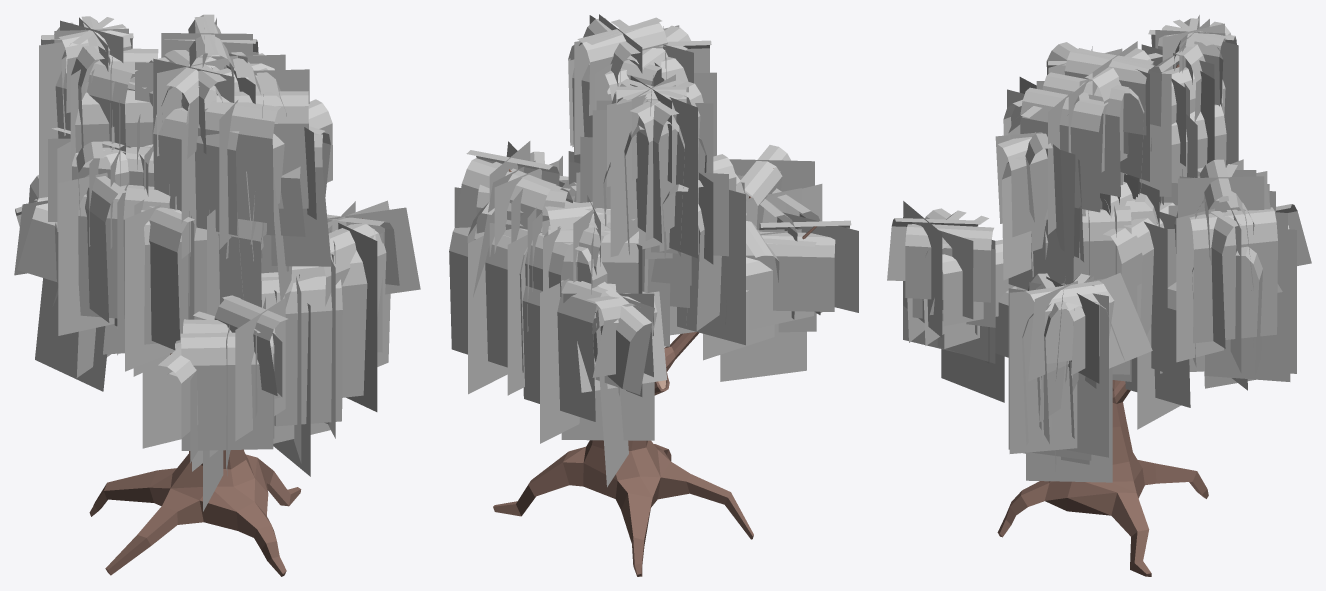
File: Tree_Willow.fbx
3 views of the same model, side by side, from view 1: azimuth 30°, elevation 25°; view 2: azimuth 150°, elevation 25°; view 3: azimuth 270°, elevation 25° (orthographic). The views are drawn at different scales.
Parts seen in each view (by area): view 1: Tree_Willow_LOD0; view 2: Tree_Willow_LOD0; view 3: Tree_Willow_LOD0.
Boxes of the visible parts, <box> form: Tree_Willow_LOD0: <box>14,14,420,576</box>; Tree_Willow_LOD0: <box>449,14,858,576</box>; Tree_Willow_LOD0: <box>887,15,1311,576</box>.
Size of what is drawn, in the model's own units: 805 by 1209 by 982.
